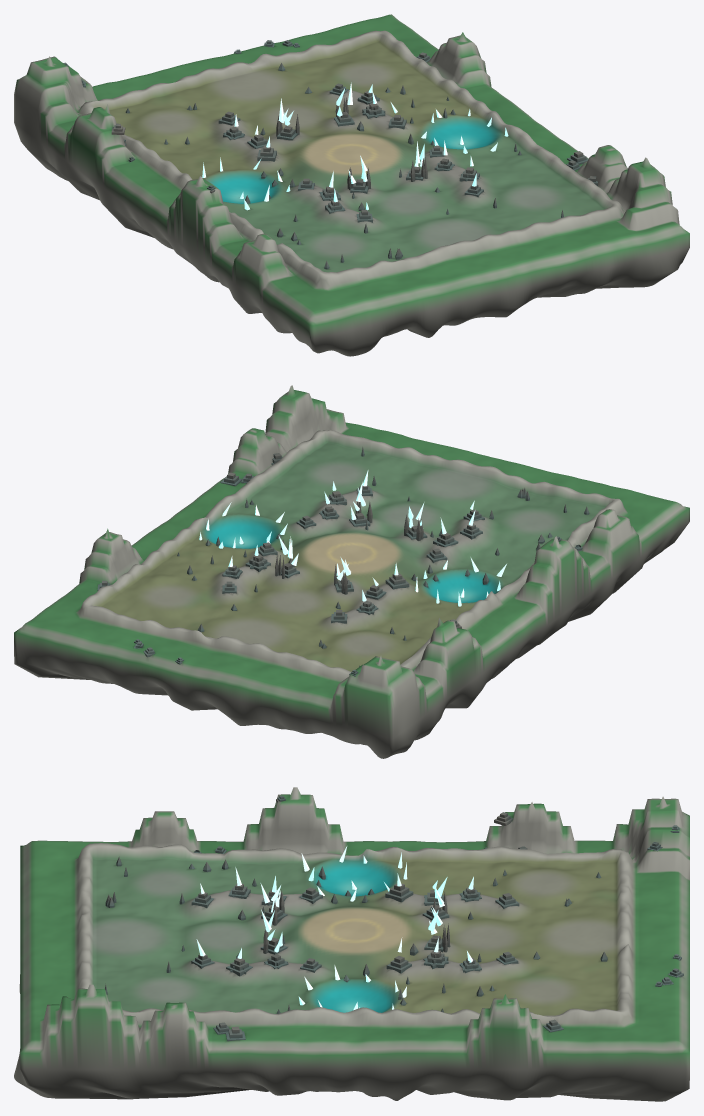
The model's file is battlefield.glb.
The picture shows the model from 3 angles, top to bottom: view 1: azimuth 30°, elevation 25°; view 2: azimuth 150°, elevation 25°; view 3: azimuth 270°, elevation 25°; orthographic projection. The views are drawn at different scales.
Parts seen in each view (by area): view 1: Island, Rocks, Crystals; view 2: Island, Rocks, Crystals; view 3: Island, Rocks, Crystals.
Boxes of the visible parts, <box> form: Island: <box>14,14,689,356</box>; Rocks: <box>63,40,598,269</box>; Crystals: <box>202,82,508,210</box>; Island: <box>14,385,689,758</box>; Rocks: <box>97,447,589,676</box>; Crystals: <box>199,470,506,606</box>; Island: <box>14,787,689,1101</box>; Rocks: <box>105,795,683,1041</box>; Crystals: <box>196,846,473,1010</box>.
Bounding box in the file's own units: 12.85 × 5.68 × 17.54.
